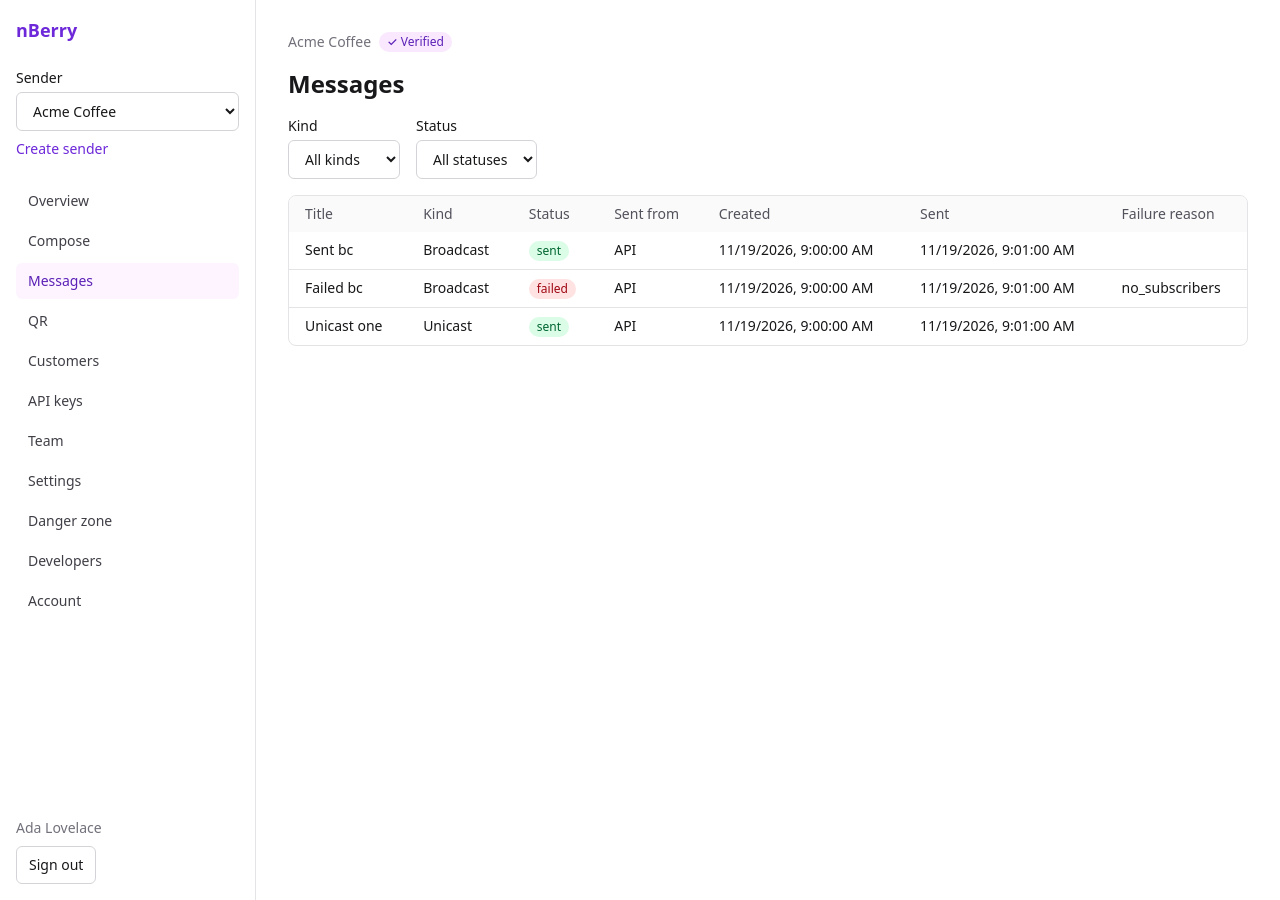
Test: messages table › filters loaded rows by kind and status, and shows the failure reason
Expected: the text "Sent bc" is shown, [305,240,353,259]
Expected: the text "no_subscribers" is shown, [1106,270,1247,308]
Select "Unicast" in the dropdown labelled "Kind" at (344, 160), box [288,140,400,179]
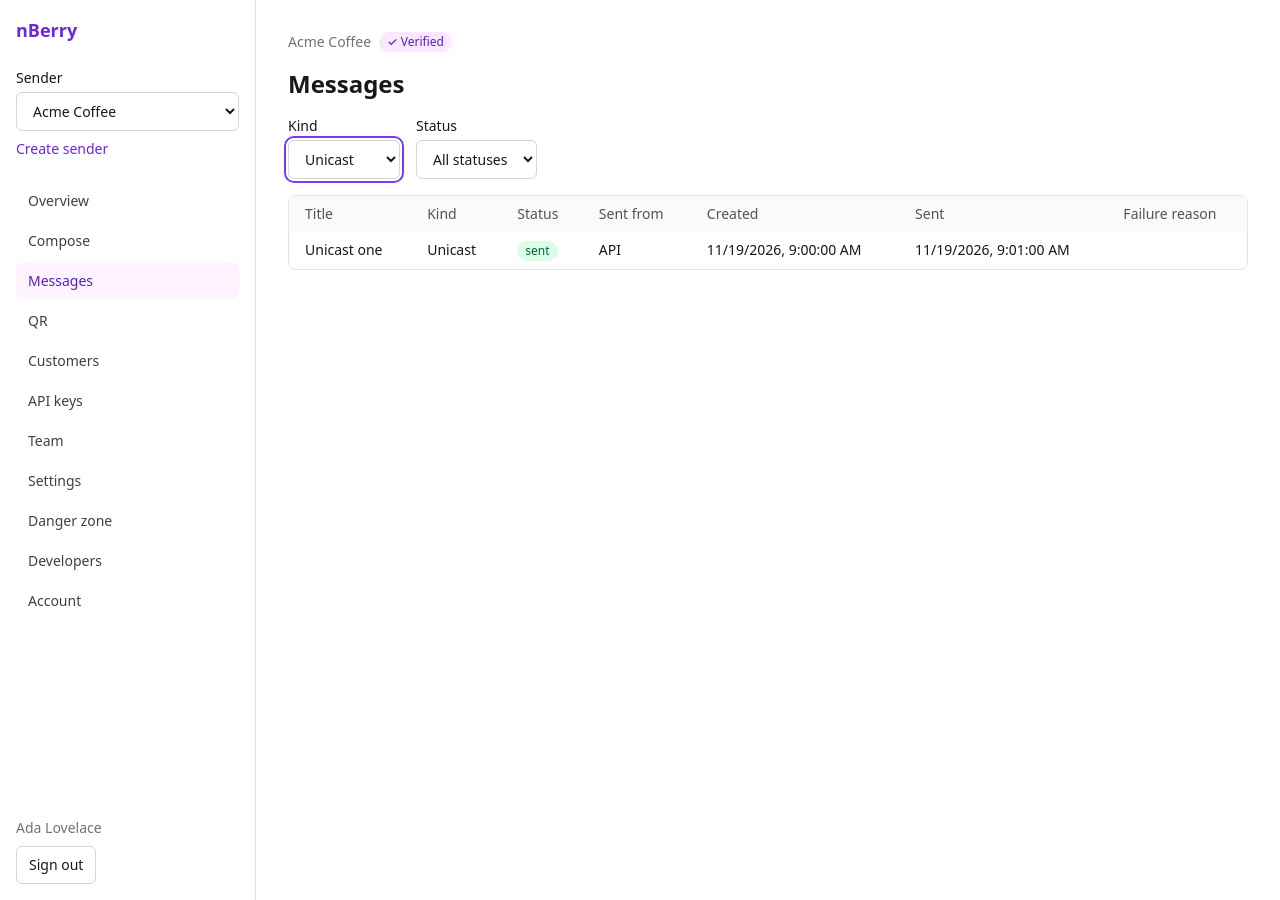
Expected: the text "Unicast one" is shown, [305,240,382,259]
Now the text "Sent bc" is gone
Select "All kinds" in the dropdown labelled "Kind" at (344, 160), box [288,140,400,179]
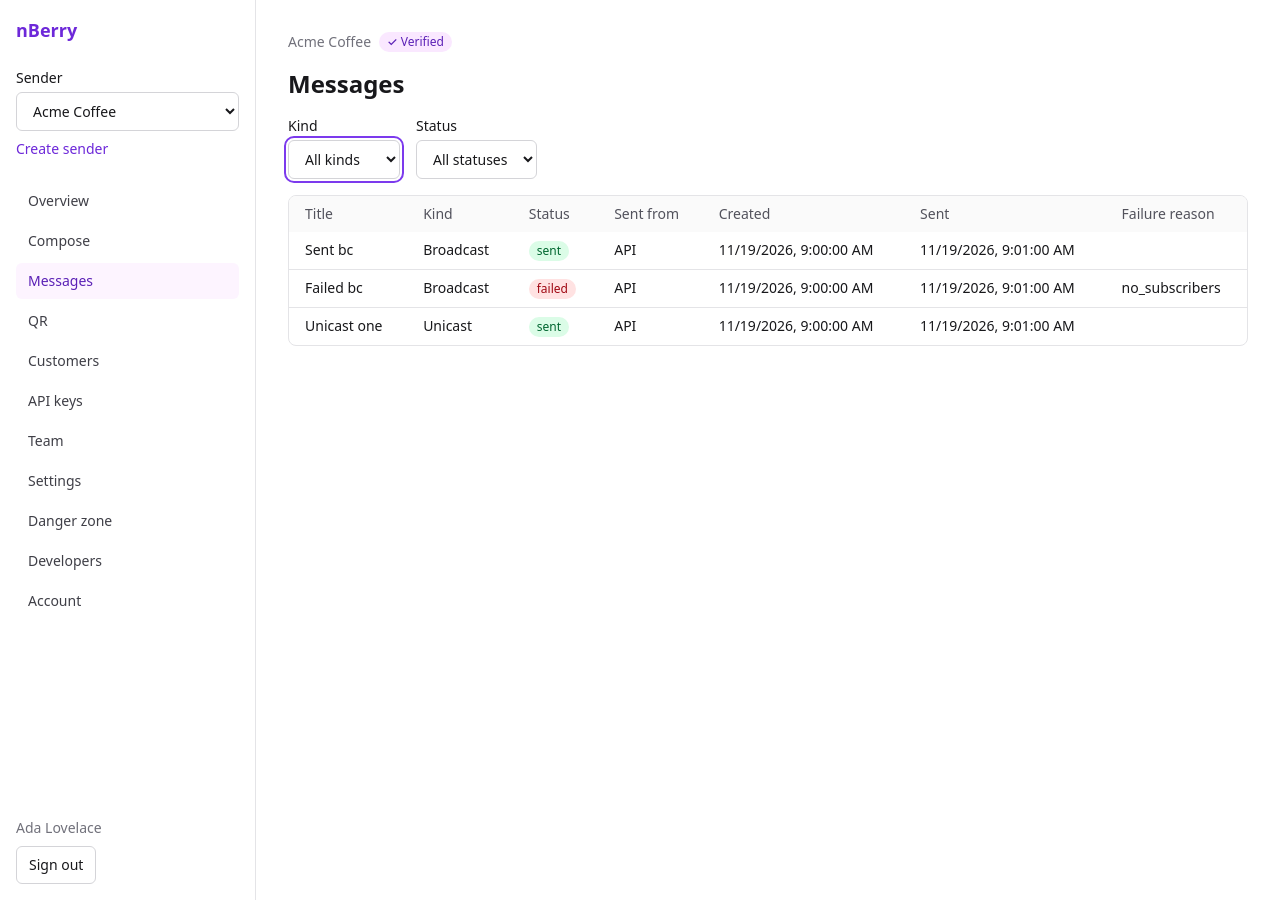
Select "failed" in the dropdown labelled "Status" at (476, 160), box [416,140,537,179]
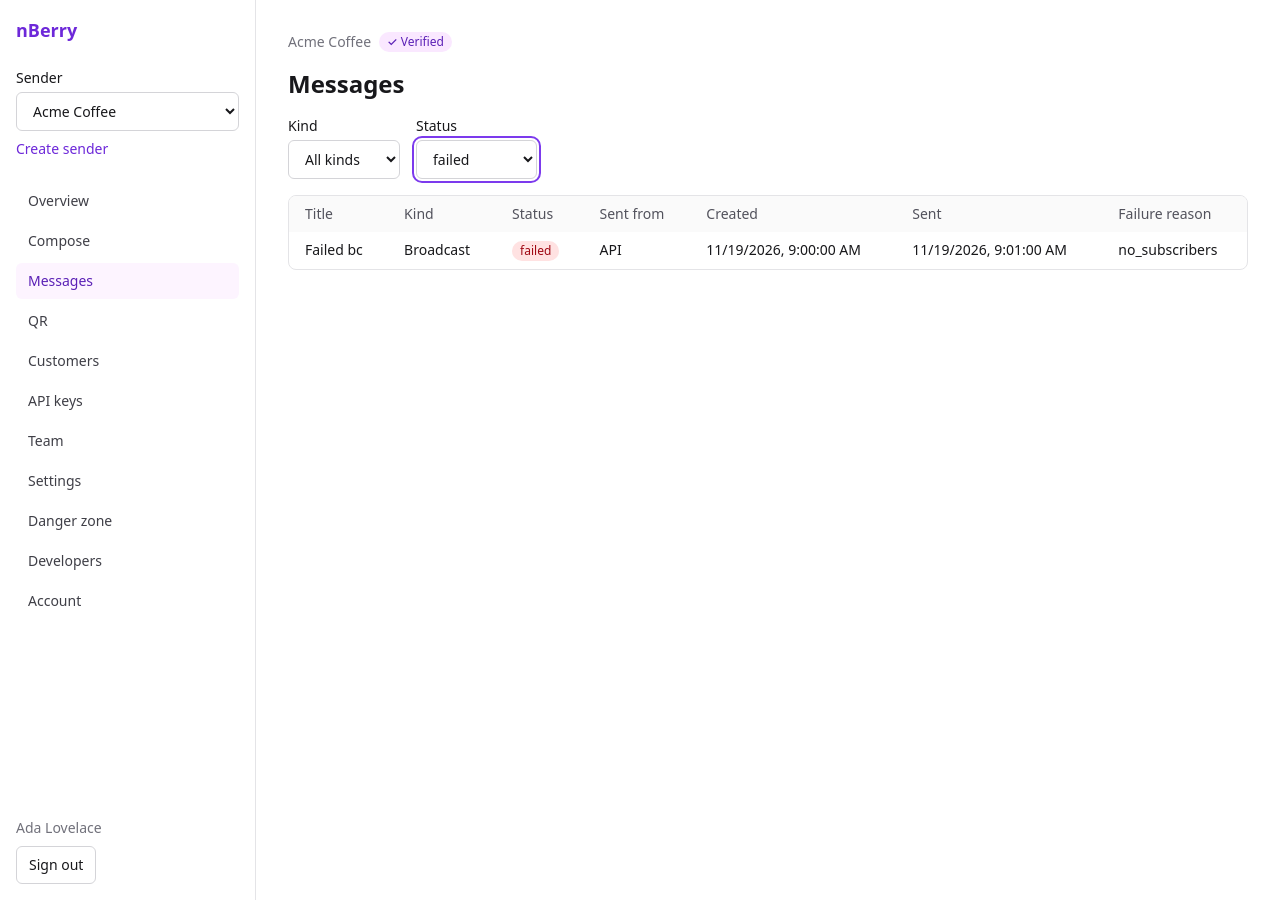
Now the text "Failed bc" is shown, box [305,240,363,259]
Now the text "Sent bc" is gone
